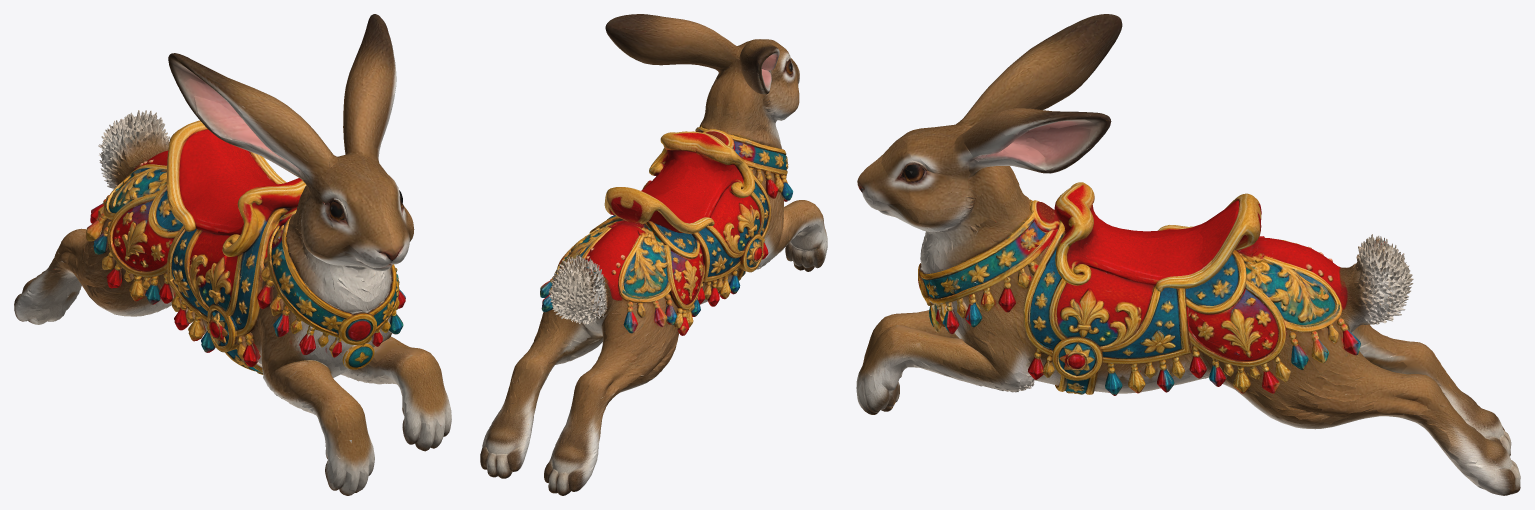
File: rabbit.glb
The picture shows the model from 3 angles, left to right: view 1: azimuth 30°, elevation 25°; view 2: azimuth 150°, elevation 25°; view 3: azimuth 270°, elevation 25°; orthographic projection. The views are drawn at different scales.
Size of the model in its own units: 0.6611 by 1.33 by 1.9.
Materials: 1 (1 with a texture image).
